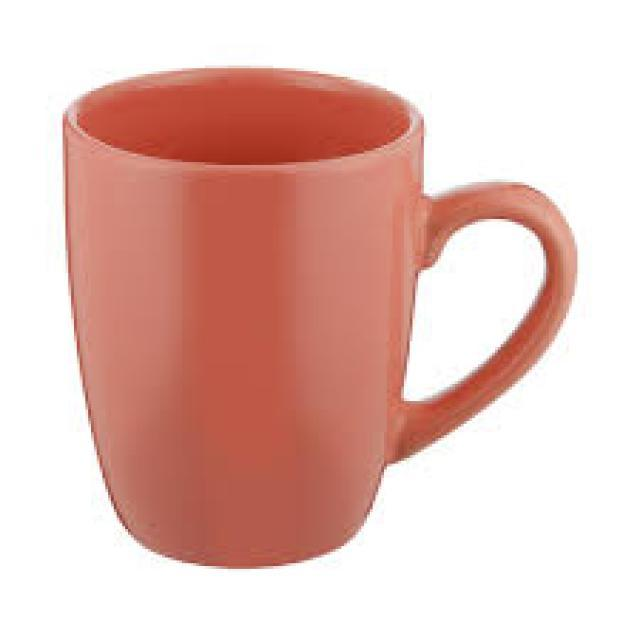taza: (62, 64, 580, 570)
